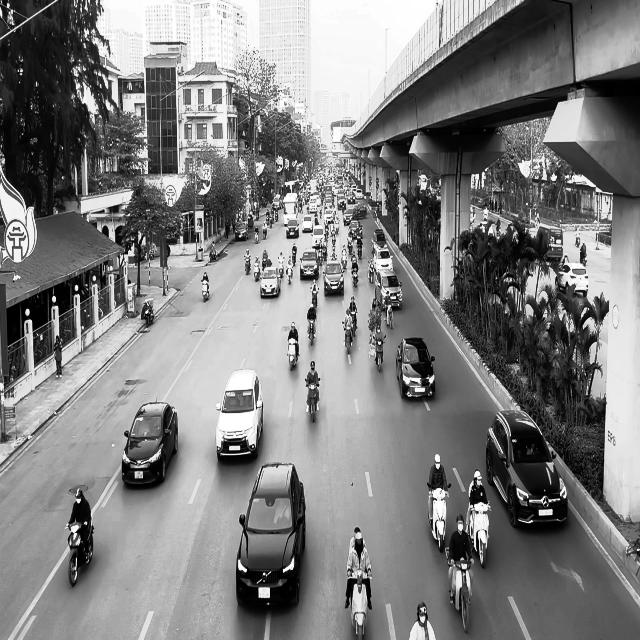car: (236, 462, 306, 608), (485, 409, 568, 528), (122, 401, 178, 486), (215, 368, 263, 461), (396, 336, 436, 398), (555, 262, 589, 297), (374, 268, 402, 310), (323, 260, 344, 296), (260, 266, 280, 298), (300, 248, 319, 280), (235, 221, 248, 241)
motorbike: (445, 546, 474, 633), (65, 519, 94, 586), (426, 483, 451, 552), (467, 501, 491, 568), (304, 378, 320, 422), (372, 335, 386, 371), (287, 338, 299, 370), (141, 298, 154, 326), (342, 321, 353, 354), (307, 315, 316, 345), (201, 278, 209, 302), (351, 263, 358, 286), (243, 255, 250, 275)
